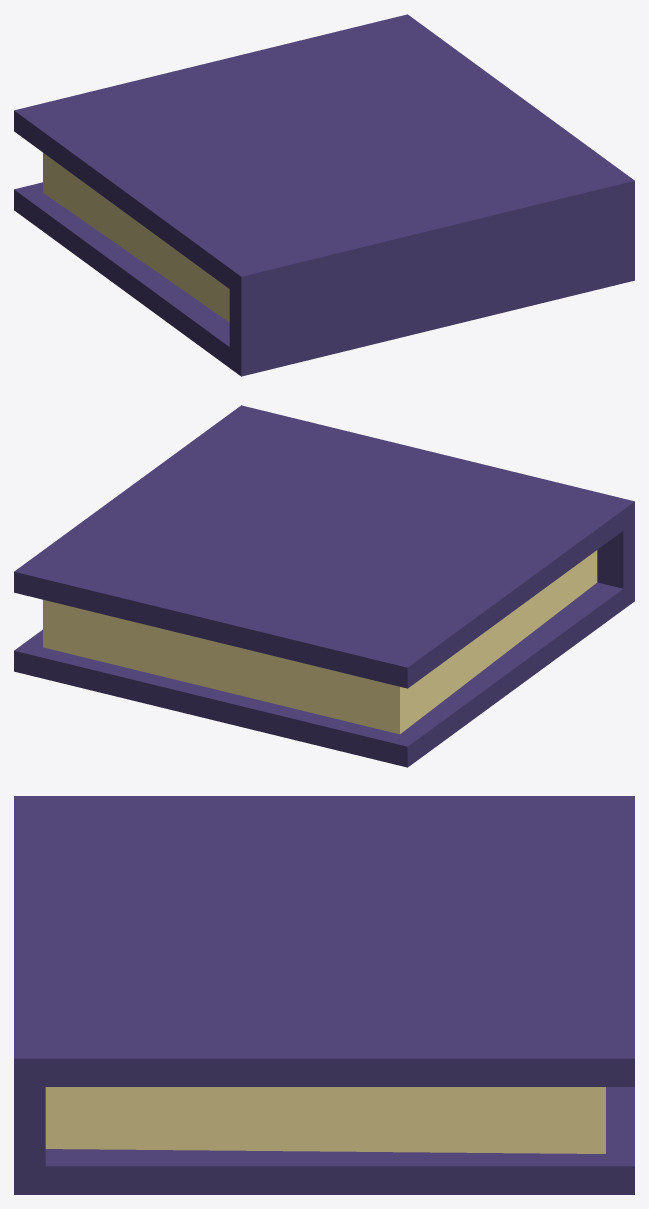
File: book.fbx
3 renders of one model, top to bottom at view 1: azimuth 30°, elevation 25°; view 2: azimuth 150°, elevation 25°; view 3: azimuth 270°, elevation 25°, orthographic. The views are drawn at different scales.
Visible parts, largest first — view 1: Cube; view 2: Cube; view 3: Cube.
Part boxes in pixels (left/top/right/bottom): Cube: left=14, top=14, right=634, bottom=376; Cube: left=14, top=405, right=634, bottom=767; Cube: left=14, top=796, right=634, bottom=1194.
Size of the model in its own units: 200 by 48.48 by 200.
